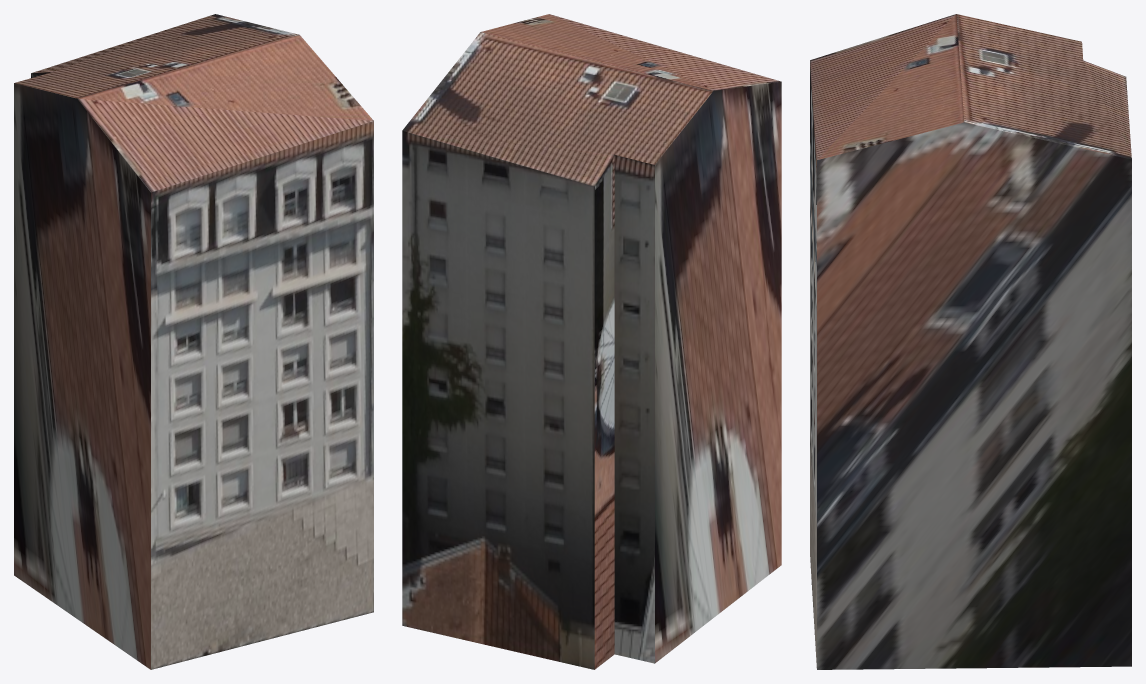
3 views of the same model, side by side, from view 1: azimuth 30°, elevation 25°; view 2: azimuth 150°, elevation 25°; view 3: azimuth 270°, elevation 25° (orthographic). The views are drawn at different scales.
Visible parts, largest first — view 1: Z_UP; view 2: Z_UP; view 3: Z_UP.
Part boxes in pixels (<box>): Z_UP: <box>14,14,373,669</box>; Z_UP: <box>402,14,781,669</box>; Z_UP: <box>810,14,1131,669</box>.
Bounding box in the file's own units: 12.06 × 26.13 × 13.96.
Materials: 2 (1 with a texture image).
